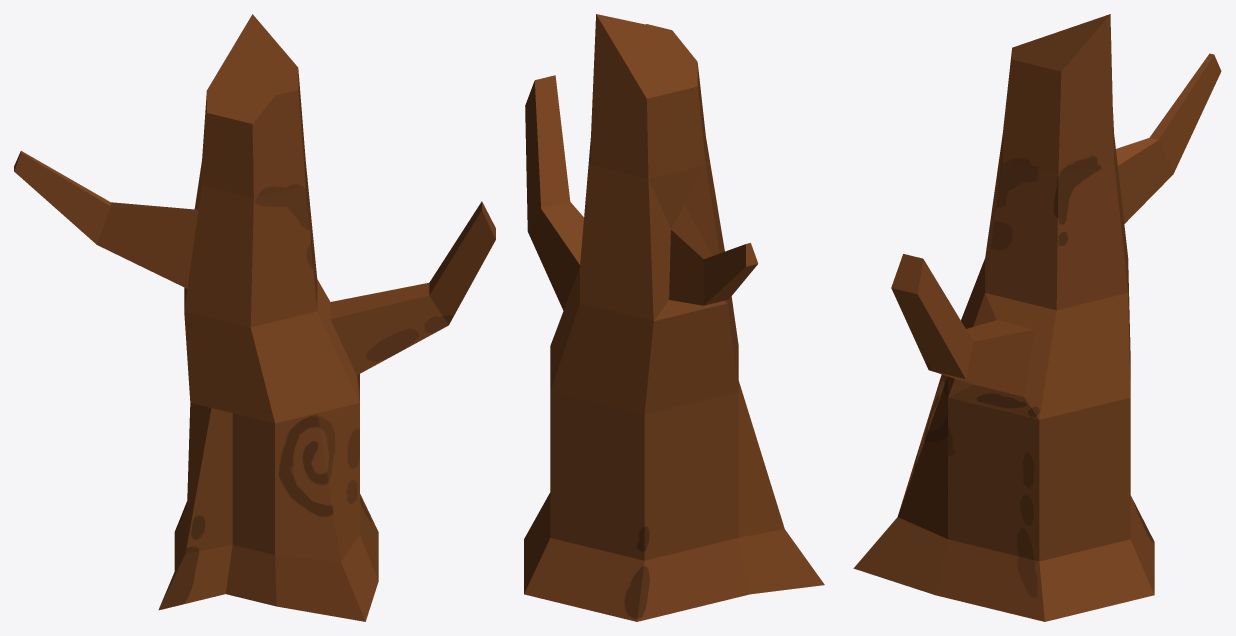
The model's file is tronco.fbx.
3 renders of one model, left to right at view 1: azimuth 30°, elevation 25°; view 2: azimuth 150°, elevation 25°; view 3: azimuth 270°, elevation 25°, orthographic. The views are drawn at different scales.
Visible parts, largest first — view 1: Cylinder.002; view 2: Cylinder.002; view 3: Cylinder.002.
Part boxes in pixels (left/top/right/bottom): Cylinder.002: left=14, top=14, right=495, bottom=621; Cylinder.002: left=524, top=14, right=824, bottom=621; Cylinder.002: left=853, top=14, right=1221, bottom=621.
Bounding box in the file's own units: 190 × 272 × 163.
